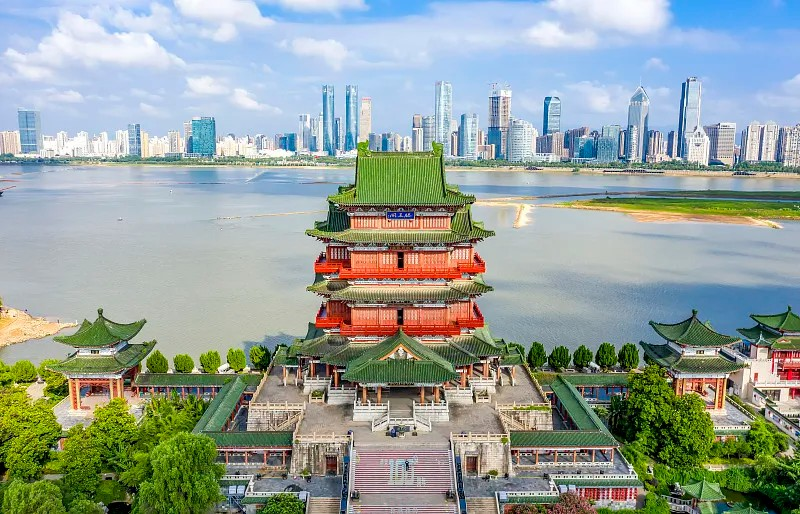Teng: (274, 141, 527, 406)
